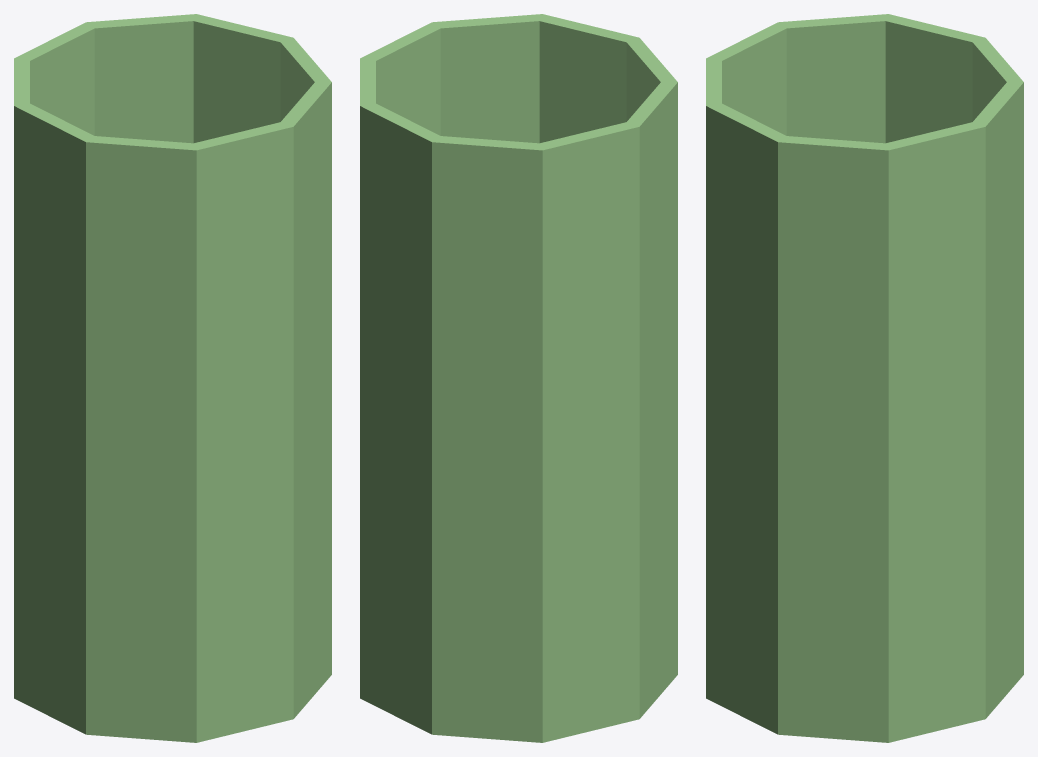
File: Drinking Glass.fbx
The picture shows the model from 3 angles, left to right: view 1: azimuth 30°, elevation 25°; view 2: azimuth 150°, elevation 25°; view 3: azimuth 270°, elevation 25°; orthographic projection.
Visible parts, largest first — view 1: Drinking Glass; view 2: Drinking Glass; view 3: Drinking Glass.
Part boxes in pixels (<box>): Drinking Glass: <box>14,14,331,742</box>; Drinking Glass: <box>360,14,677,742</box>; Drinking Glass: <box>706,14,1023,742</box>.
Bounding box in the file's own units: 29.93 × 60.61 × 29.48.
